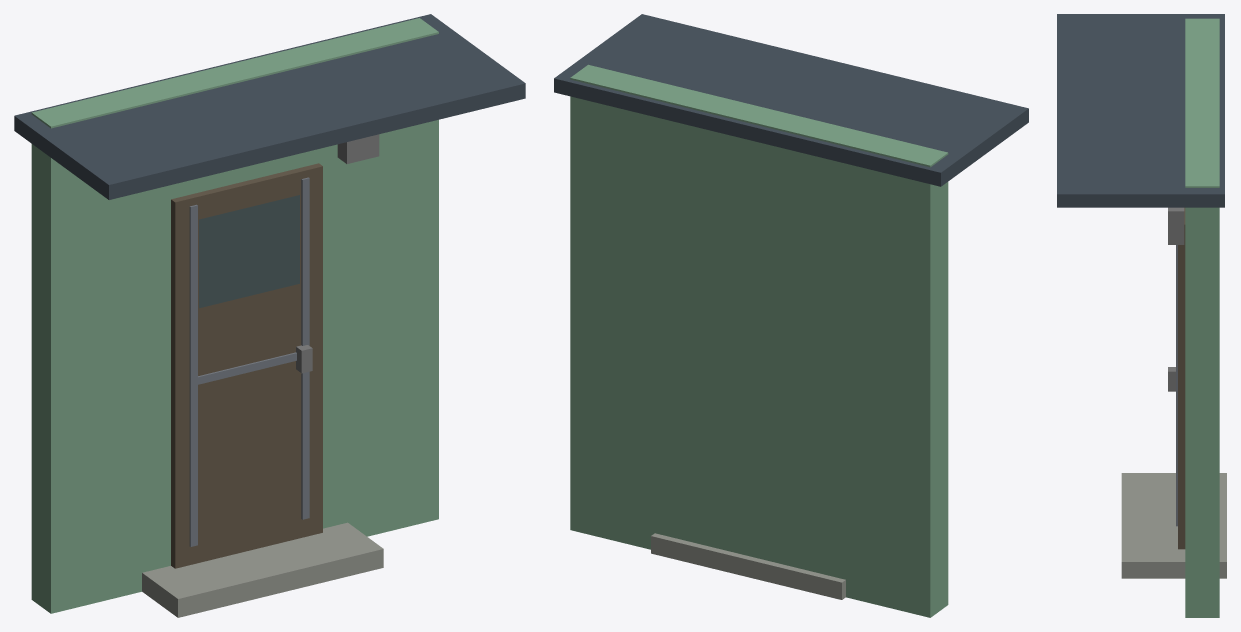
The model's file is entrance_close.fbx.
3 renders of one model, left to right at view 1: azimuth 30°, elevation 25°; view 2: azimuth 150°, elevation 25°; view 3: azimuth 270°, elevation 25°, orthographic. The views are drawn at different scales.
Visible parts, largest first — view 1: a2014/500/entrance_close; view 2: a2014/500/entrance_close; view 3: a2014/500/entrance_close.
Boxes of the visible parts, bbox=[...] form: a2014/500/entrance_close: bbox=[14, 14, 525, 617]; a2014/500/entrance_close: bbox=[554, 14, 1028, 617]; a2014/500/entrance_close: bbox=[1057, 14, 1226, 617].
Bounding box in the file's own units: 2.31 × 2.58 × 0.92.
